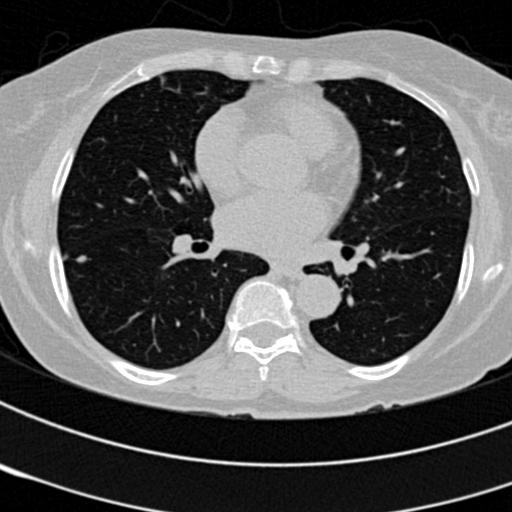nodule: (74, 252, 88, 266)
